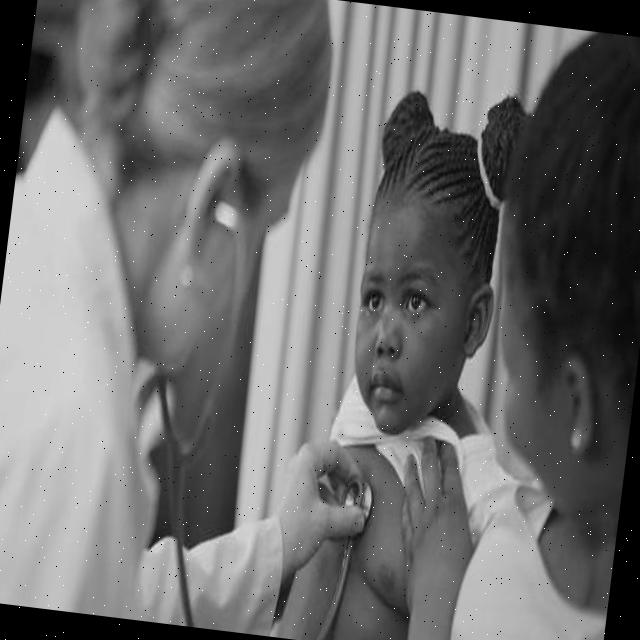Fear: (342, 179, 474, 439)
